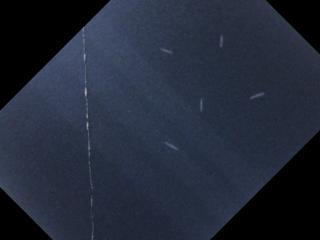crack: (80, 28, 97, 240)
scratch: (246, 85, 268, 107), (193, 93, 210, 116), (154, 44, 179, 58), (161, 138, 182, 153), (214, 32, 229, 51)
